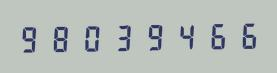eight: (47, 21, 76, 54)
four: (167, 19, 196, 51)
nine: (17, 22, 46, 54), (137, 20, 166, 52)
six: (197, 18, 226, 51), (227, 18, 256, 50)
three: (107, 20, 136, 53)
zero: (77, 21, 106, 53)
